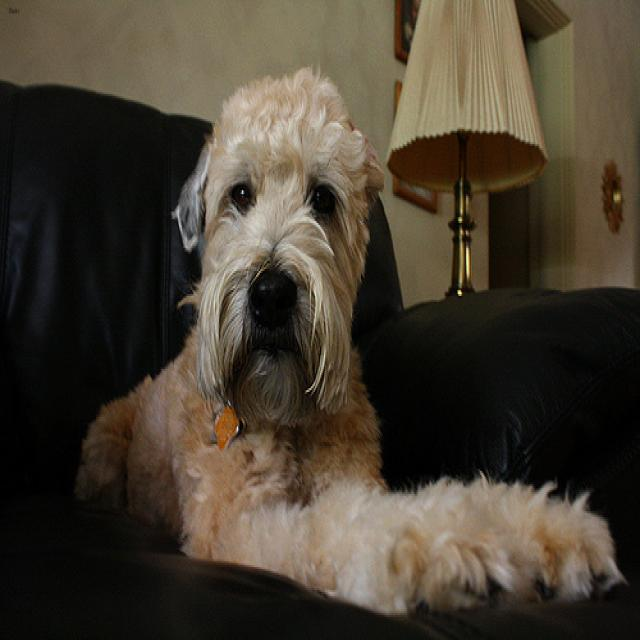dog-wheaten_terrier: (59, 56, 630, 632)
